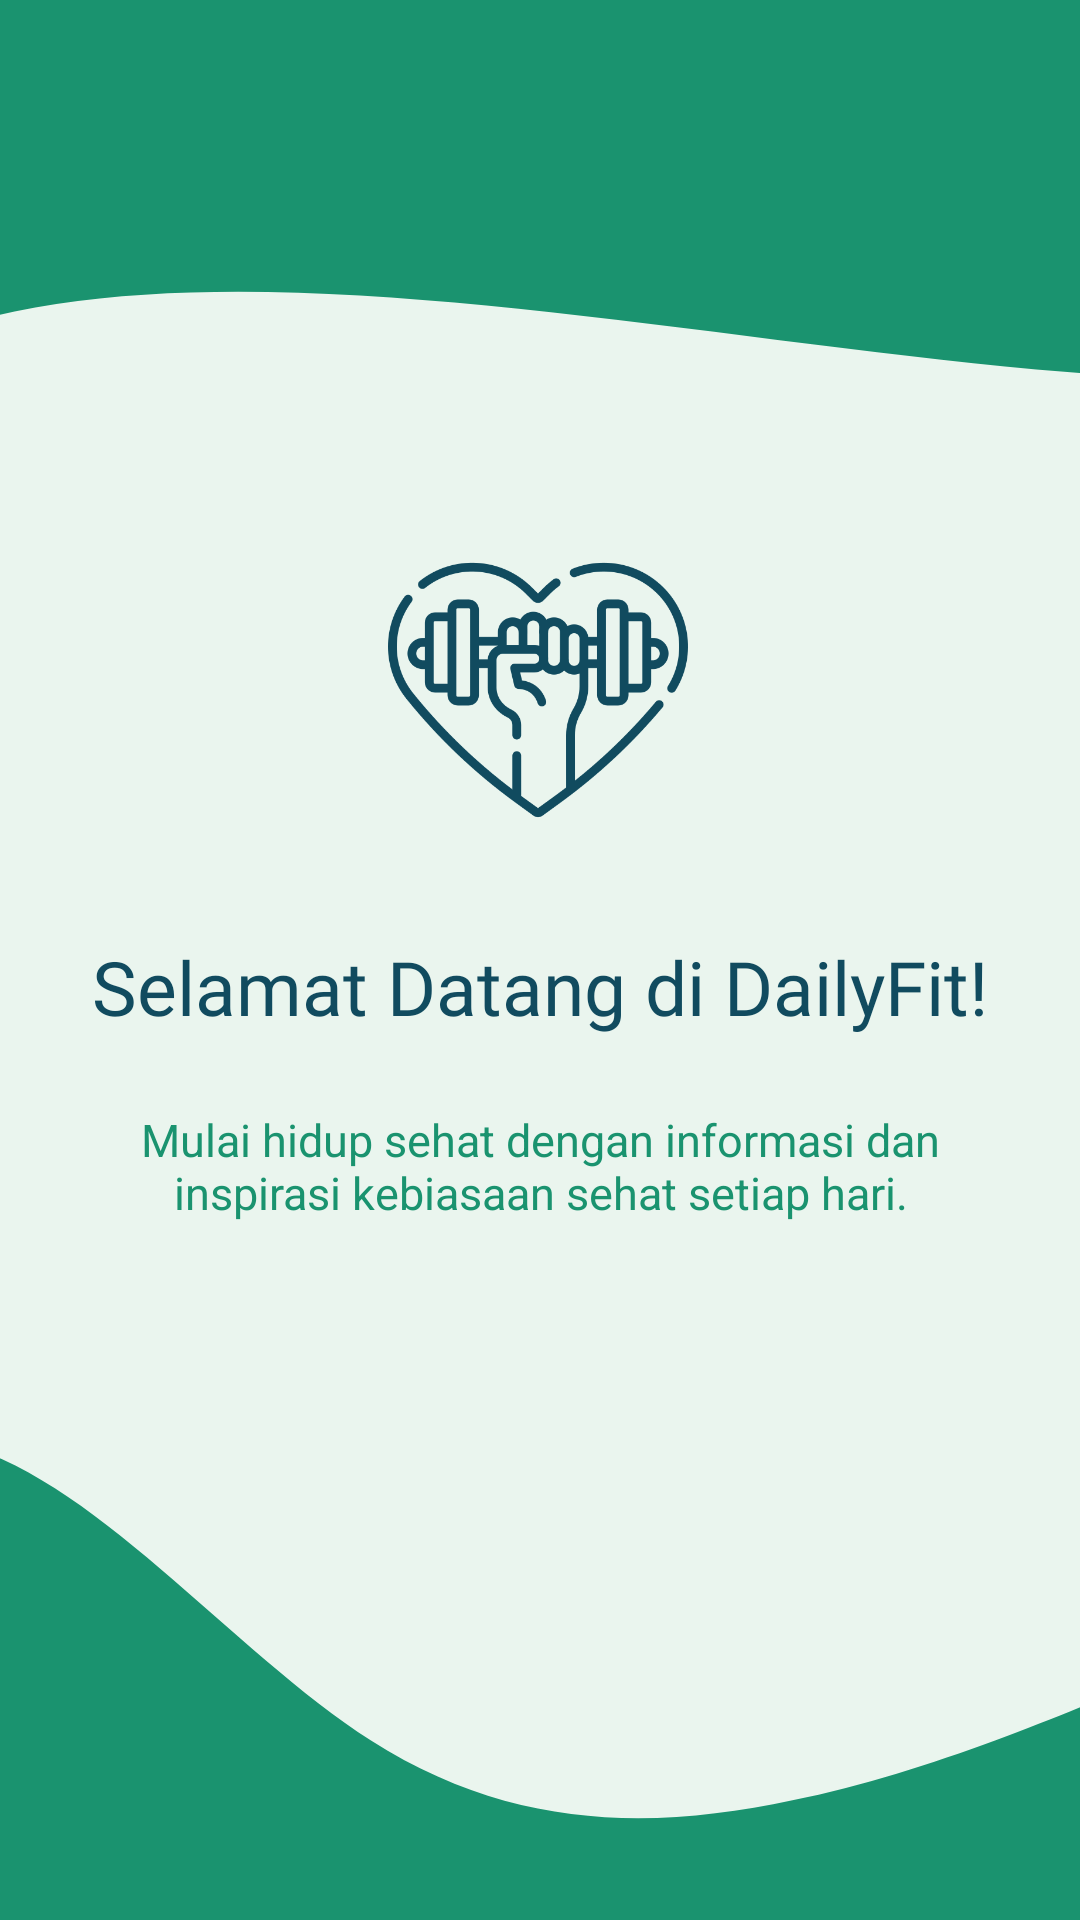

Screen size 1080w x 1920h. Icon name, then its center in pixels as [x,y]:
fitness: [538,689]
